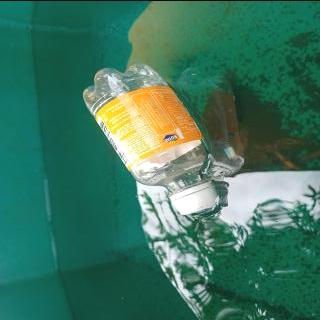bottle: (78, 59, 220, 222)
